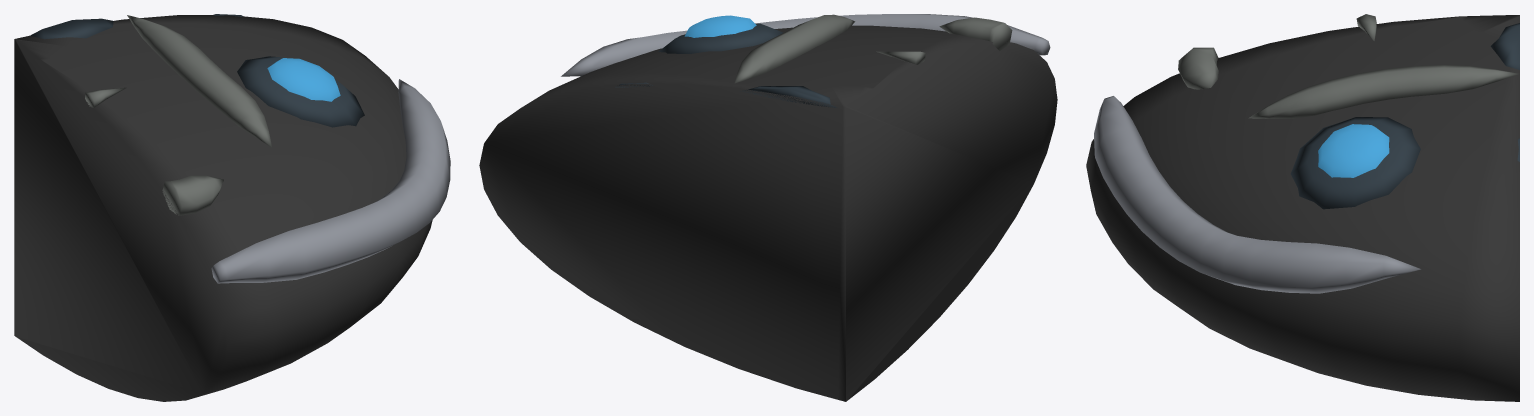
Rendered from newshu-131.glb.
3 views of the same model, side by side, from view 1: azimuth 30°, elevation 25°; view 2: azimuth 150°, elevation 25°; view 3: azimuth 270°, elevation 25° (orthographic). The views are drawn at different scales.
Parts seen in each view (by area): view 1: newshu-131; view 2: newshu-131; view 3: newshu-131.
Boxes of the visible parts, x1,y1,x2,y2 form: newshu-131: (14,14,450,401); newshu-131: (479,14,1057,401); newshu-131: (1086,14,1519,401).
Size of the model in its own units: 1.87 by 1.46 by 1.87.
